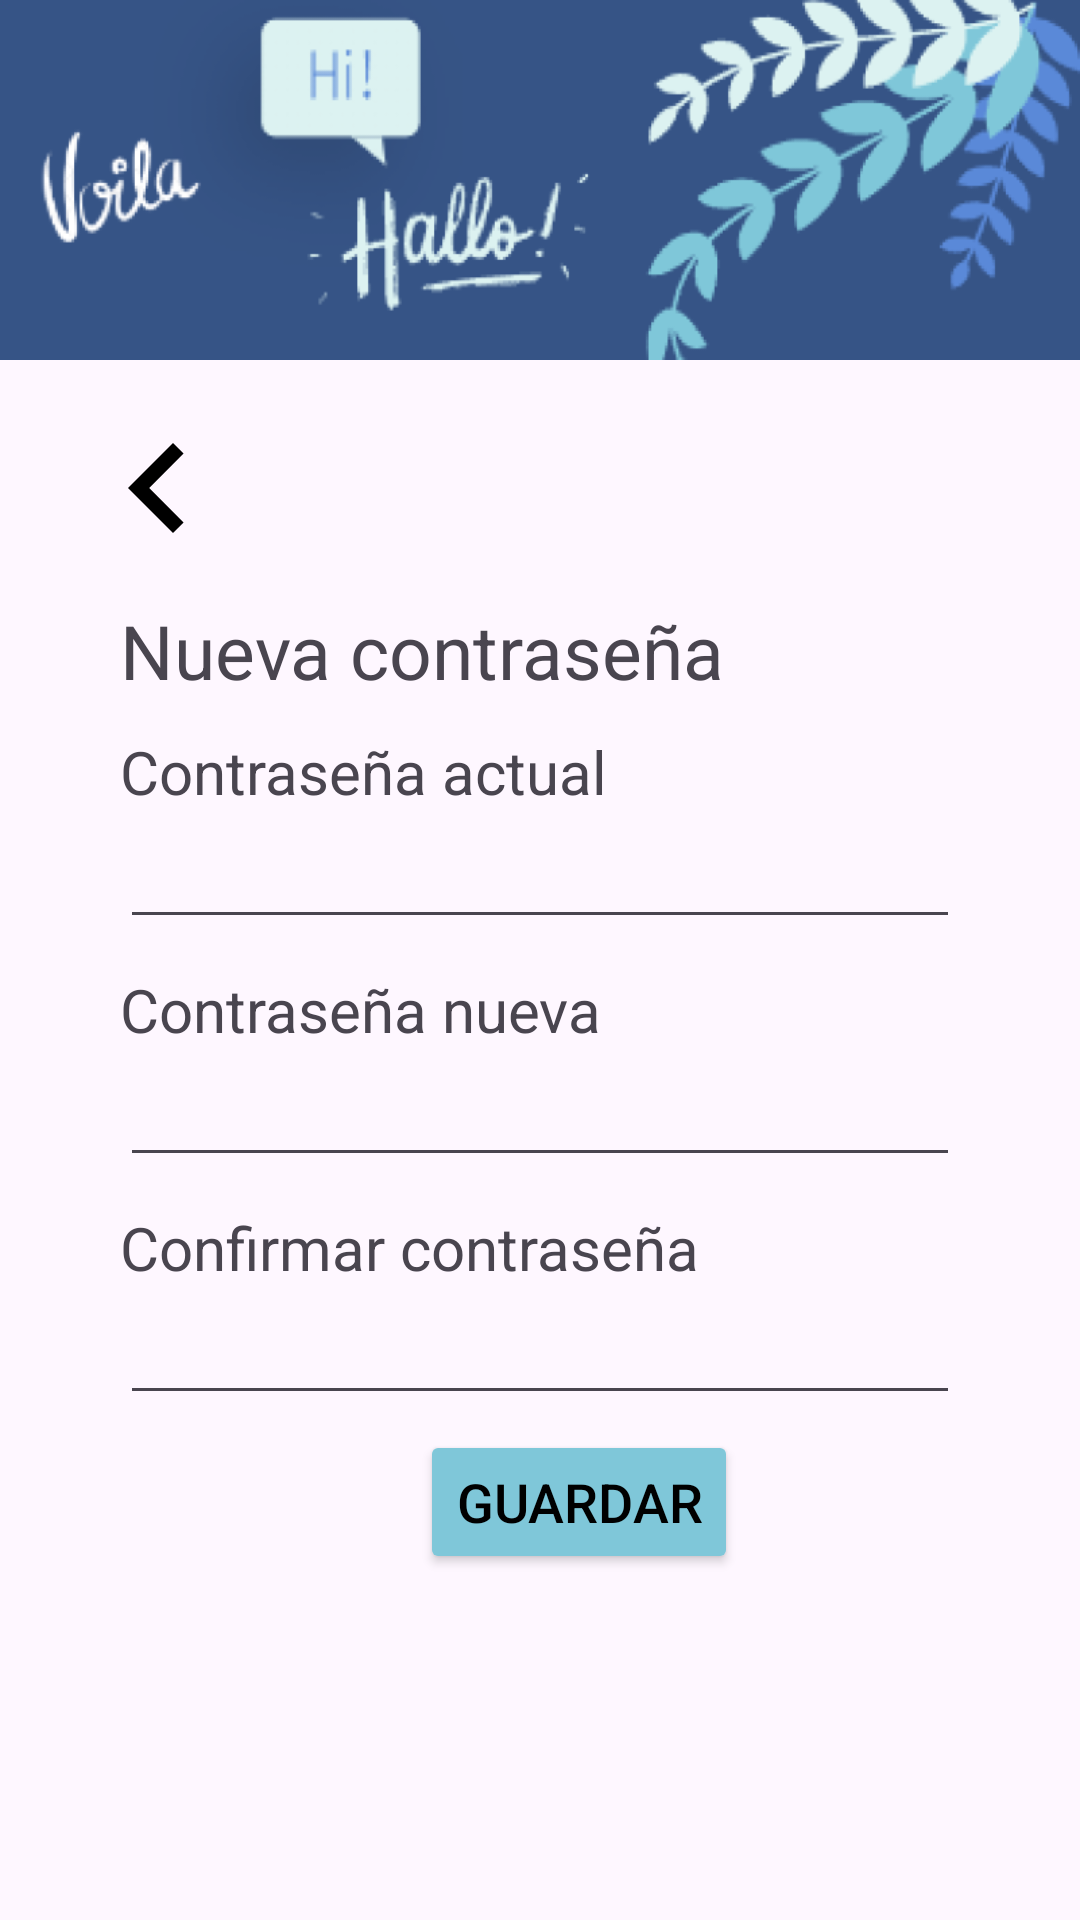

Named icons in this screenshot (1080px×1920px) and their centers, (x=x, y=y):
chevron left: (x=156, y=488)
